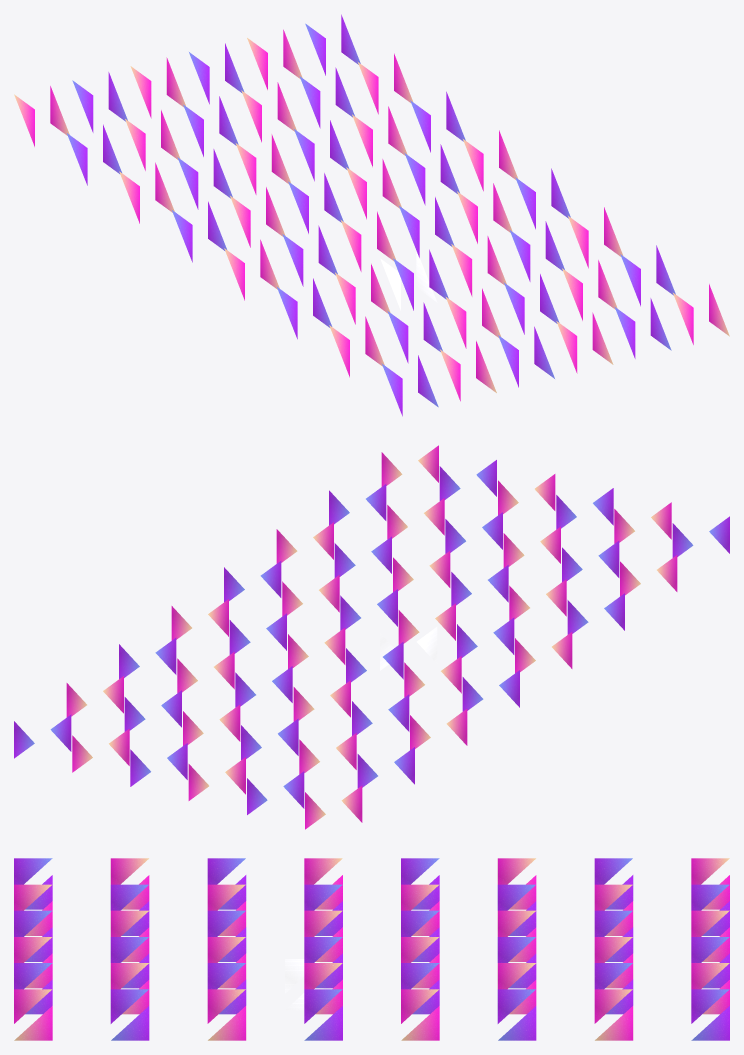
The model's file is Tile_Building_A.glb.
3 renders of one model, top to bottom at view 1: azimuth 30°, elevation 25°; view 2: azimuth 150°, elevation 25°; view 3: azimuth 270°, elevation 25°, orthographic. The views are drawn at different scales.
Visible parts, largest first — view 1: Window_7_3, Window_7_4, Window_4_1, Window_0_2, Window_1_4, Window_2_1, Window_5_3, Window_3_4, Window_6_1, Window_0_1, Window_2_2, Window_5_4 (+37 smaller); view 2: Window_0_5, Window_0_0, Window_0_1, Window_0_3, Window_0_2, Window_0_4, Window_1_3, Window_2_1, Window_3_2, Window_3_3, Window_4_1, Window_5_1 (+37 smaller); view 3: Window_5_5, Window_1_5, Window_6_5, Window_2_5, Window_4_5, Window_0_5, Window_3_5, Window_7_5, Window_1_4, Window_2_2, Window_5_4, Window_1_0 (+37 smaller).
Part boxes in pixels (bbox=[...]): Window_7_3: bbox=[556, 312, 613, 373]; Window_7_4: bbox=[614, 298, 671, 358]; Window_4_1: bbox=[282, 225, 337, 286]; Window_0_2: bbox=[130, 57, 185, 118]; Window_1_4: bbox=[299, 67, 354, 128]; Window_2_1: bbox=[177, 149, 232, 209]; Window_5_3: bbox=[451, 236, 506, 296]; Window_3_4: bbox=[404, 144, 459, 205]; Window_6_1: bbox=[387, 302, 442, 363]; Window_0_1: bbox=[72, 72, 127, 132]; Window_2_2: bbox=[235, 134, 290, 194]; Window_5_4: bbox=[509, 221, 564, 281]; Window_0_5: bbox=[14, 714, 71, 758]; Window_0_0: bbox=[305, 785, 362, 829]; Window_0_1: bbox=[247, 771, 304, 814]; Window_0_3: bbox=[130, 743, 187, 786]; Window_0_2: bbox=[188, 757, 245, 800]; Window_0_4: bbox=[72, 728, 129, 772]; Window_1_3: bbox=[183, 704, 240, 745]; Window_2_1: bbox=[352, 694, 409, 735]; Window_3_2: bbox=[346, 641, 403, 683]; Window_3_3: bbox=[288, 627, 345, 668]; Window_4_1: bbox=[457, 617, 514, 658]; Window_5_1: bbox=[509, 579, 566, 620]; Window_5_5: bbox=[207, 989, 246, 1040]; Window_1_5: bbox=[594, 989, 633, 1040]; Window_6_5: bbox=[110, 989, 149, 1040]; Window_2_5: bbox=[497, 989, 536, 1040]; Window_4_5: bbox=[304, 989, 342, 1040]; Window_0_5: bbox=[691, 989, 729, 1040]; Window_3_5: bbox=[401, 989, 439, 1040]; Window_7_5: bbox=[14, 989, 52, 1040]; Window_1_4: bbox=[594, 963, 633, 1014]; Window_2_2: bbox=[497, 910, 536, 961]; Window_5_4: bbox=[207, 963, 246, 1014]; Window_1_0: bbox=[594, 858, 633, 909].
Bounding box in the file's own units: 9 × 2 × 18.5.
Materials: 3 (3 with a texture image).
